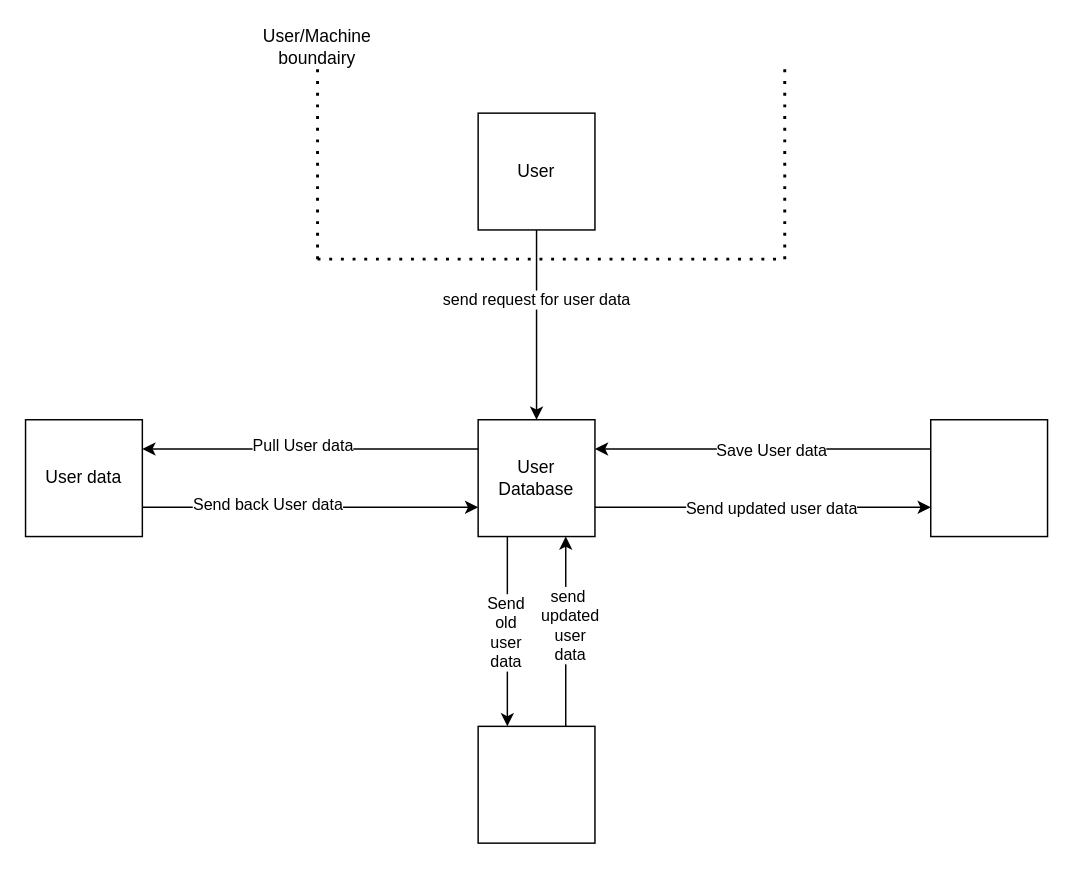
This 1073x869 diagram has some shape labels left out. Here are the shapes that lost their labels. From the top down, the centre of each, then its label:
At [988,477]: "Save Data".
At [536,784]: "Update Data".
